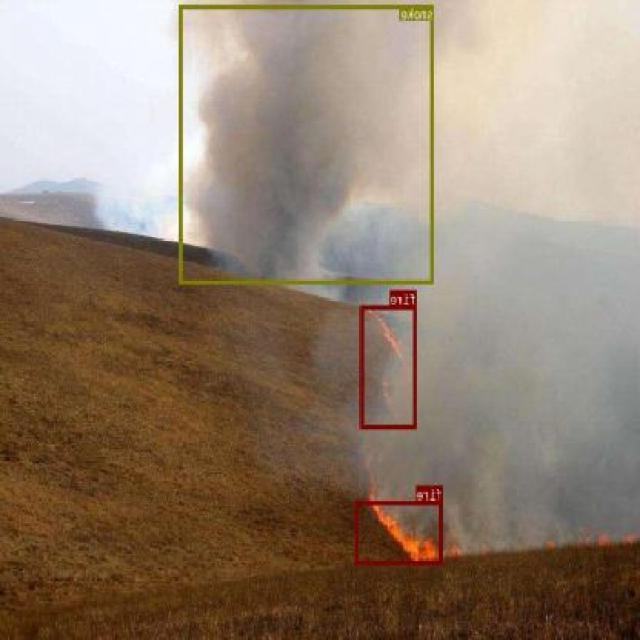Fire: (362, 304, 416, 428), (356, 499, 444, 564)
Smoke: (180, 5, 434, 284), (466, 77, 612, 520)
